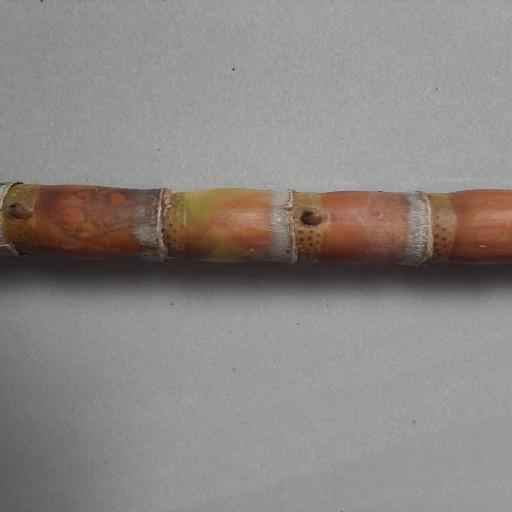Bud: (299, 205, 325, 227)
